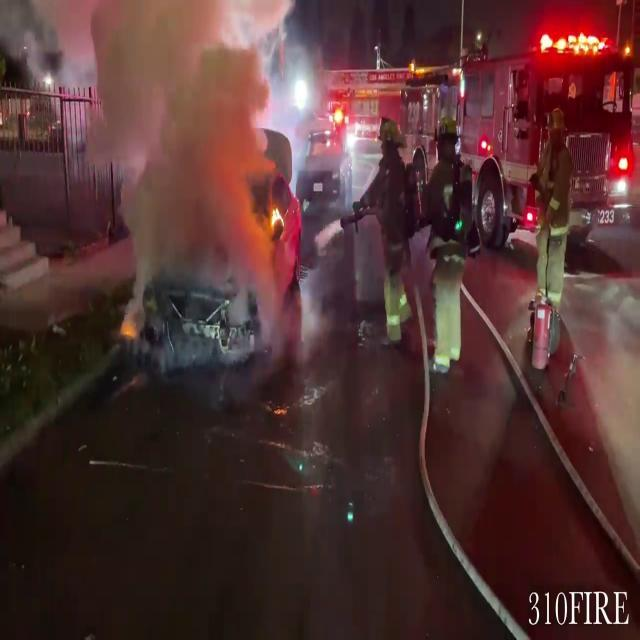Smoke: (122, 0, 284, 312)
